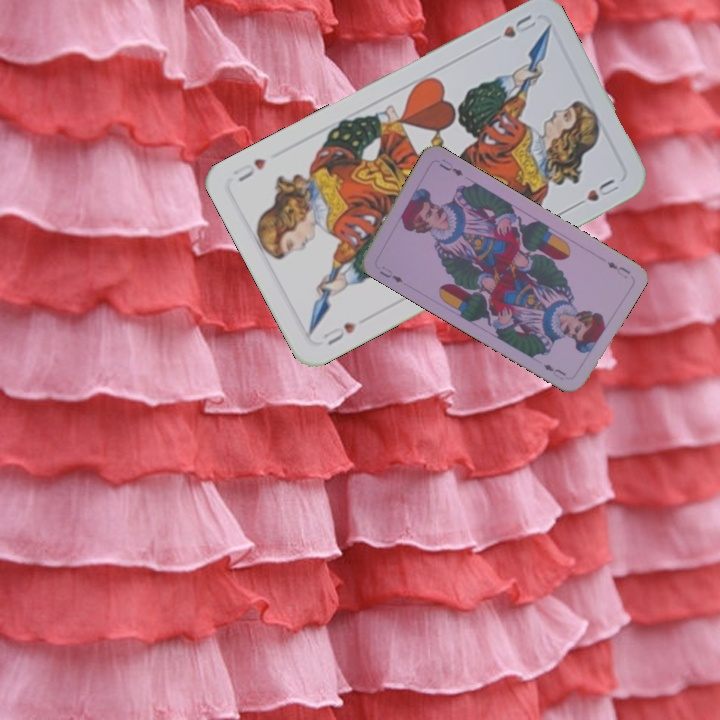EU: (603, 258, 633, 281), (375, 263, 405, 285)
HU: (498, 10, 539, 41), (319, 318, 359, 348)
